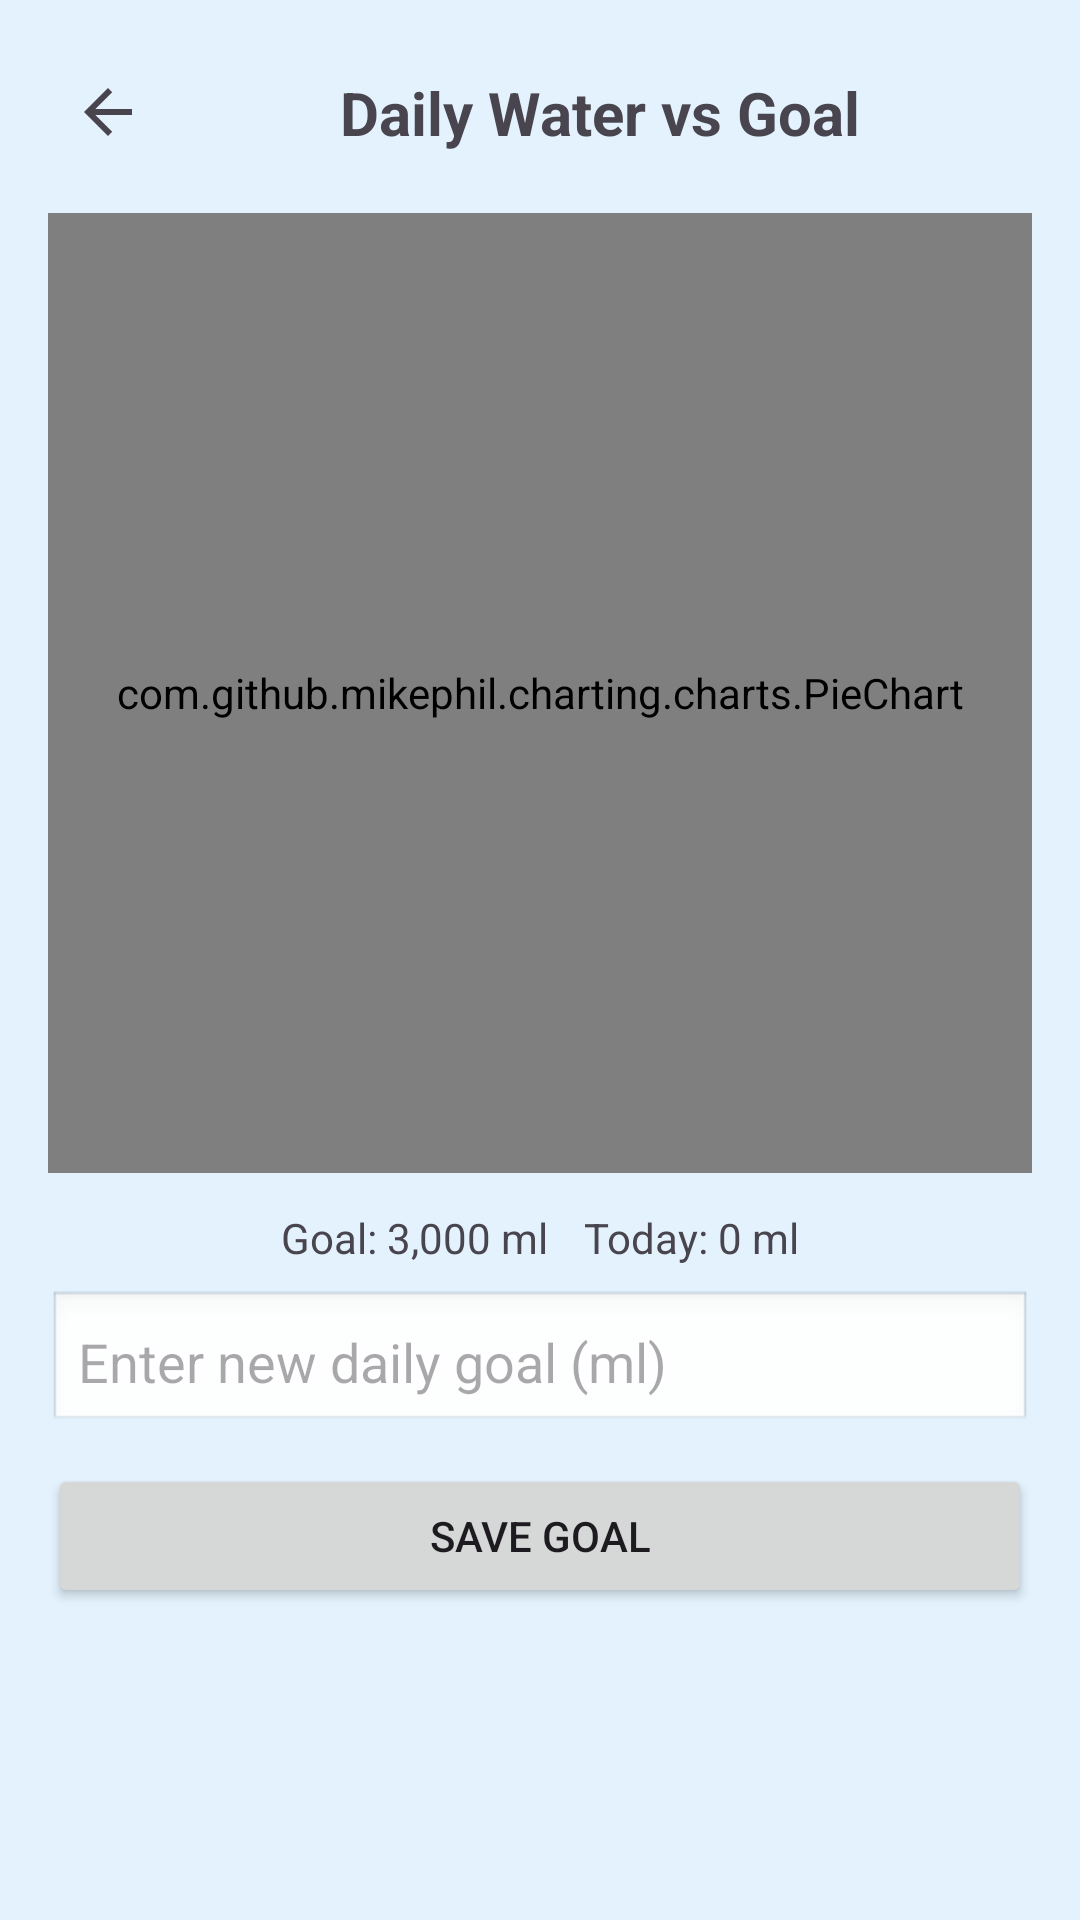

Locate icon controls on the screen. Image size 1080 × 1920, boxes as bbox=(x1, y1, x2, y2).
Back: bbox=(84, 88, 132, 136)
